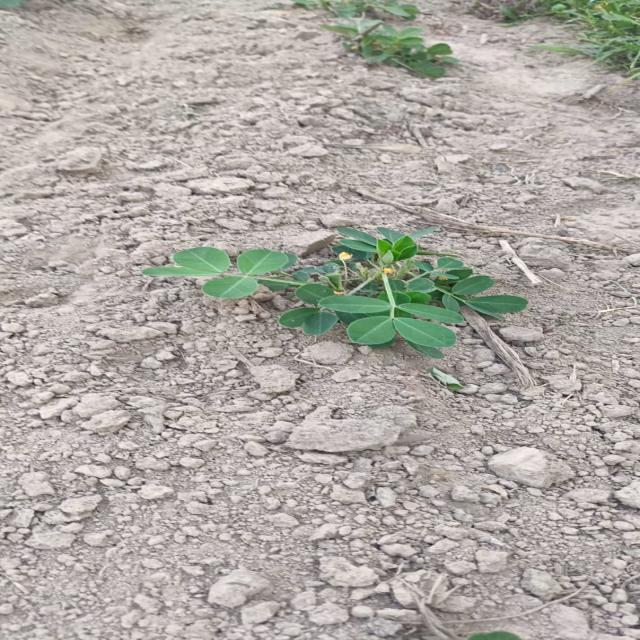plant: (141, 227, 527, 358)
